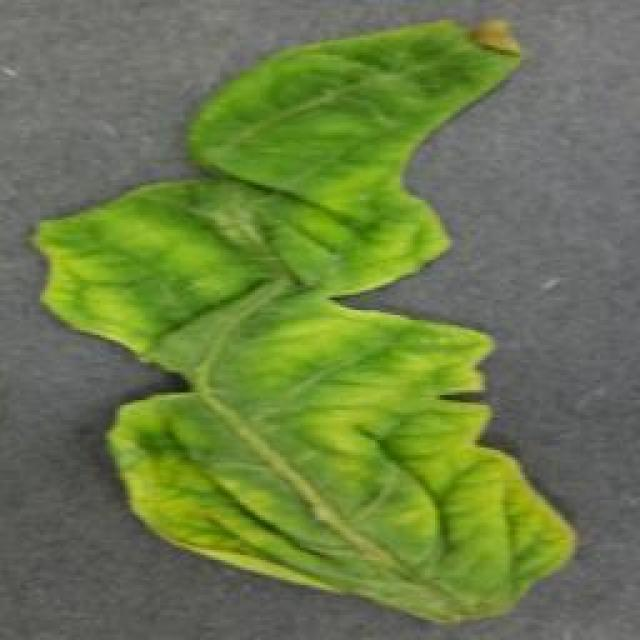Tomato yellow virus leaf: (31, 20, 584, 615)
